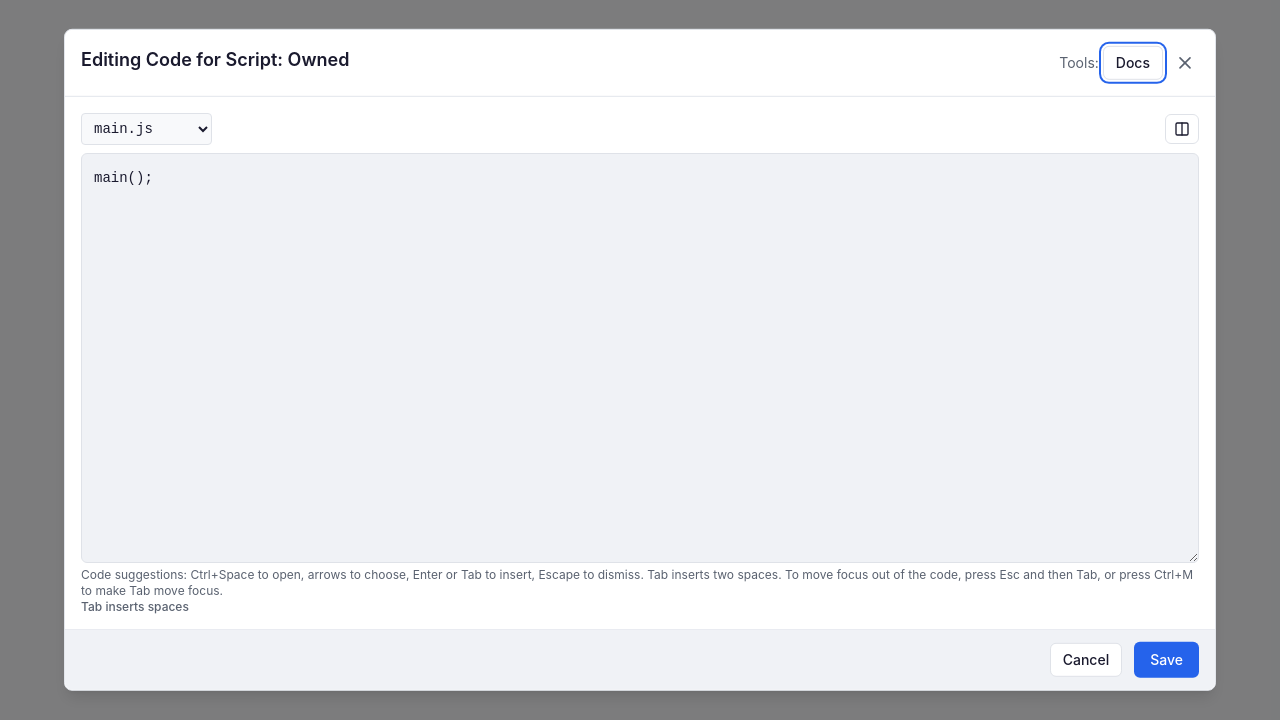
Test: ScriptEditorDialog › splits the editor into panes and closes a split
The width and height of the screenshot is (1280, 720).
Click the button named "Open a new editor split".
click(1182, 129)  # box [1165,114,1199,144]
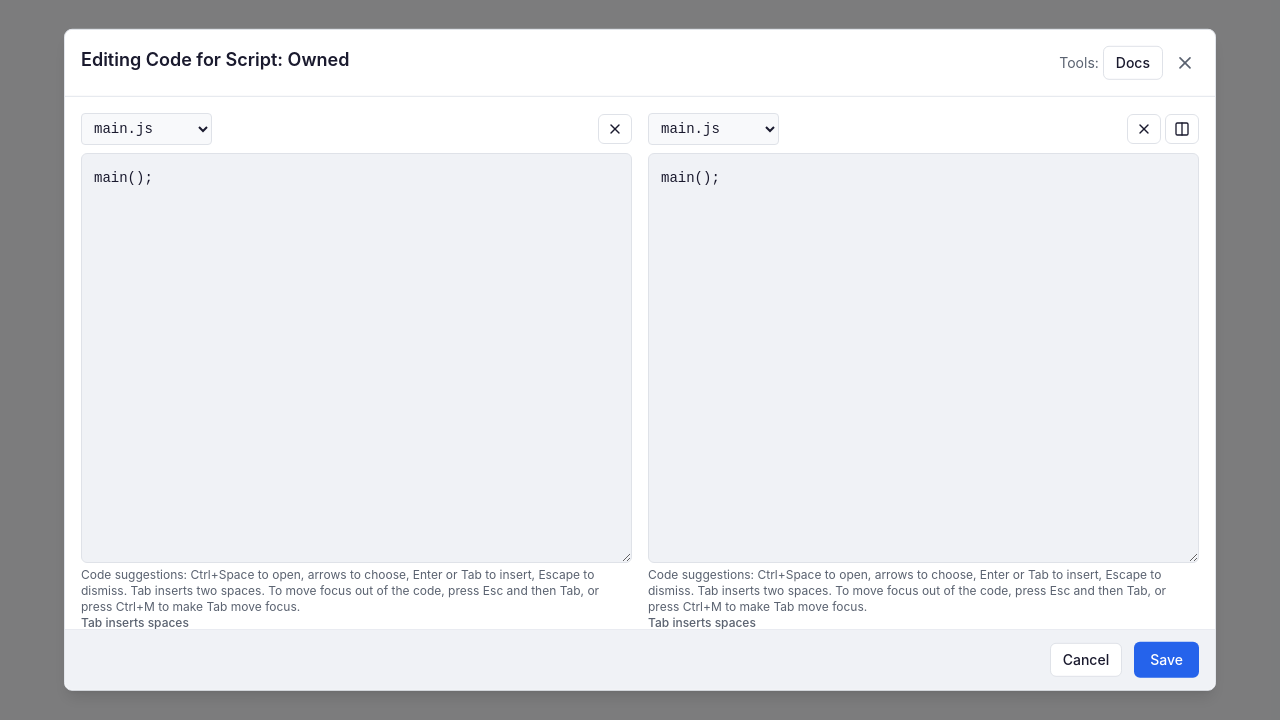
Select "data.json" in the 2nd dropdown named "File in editor 2" at (714, 129), box [648,113,779,145]
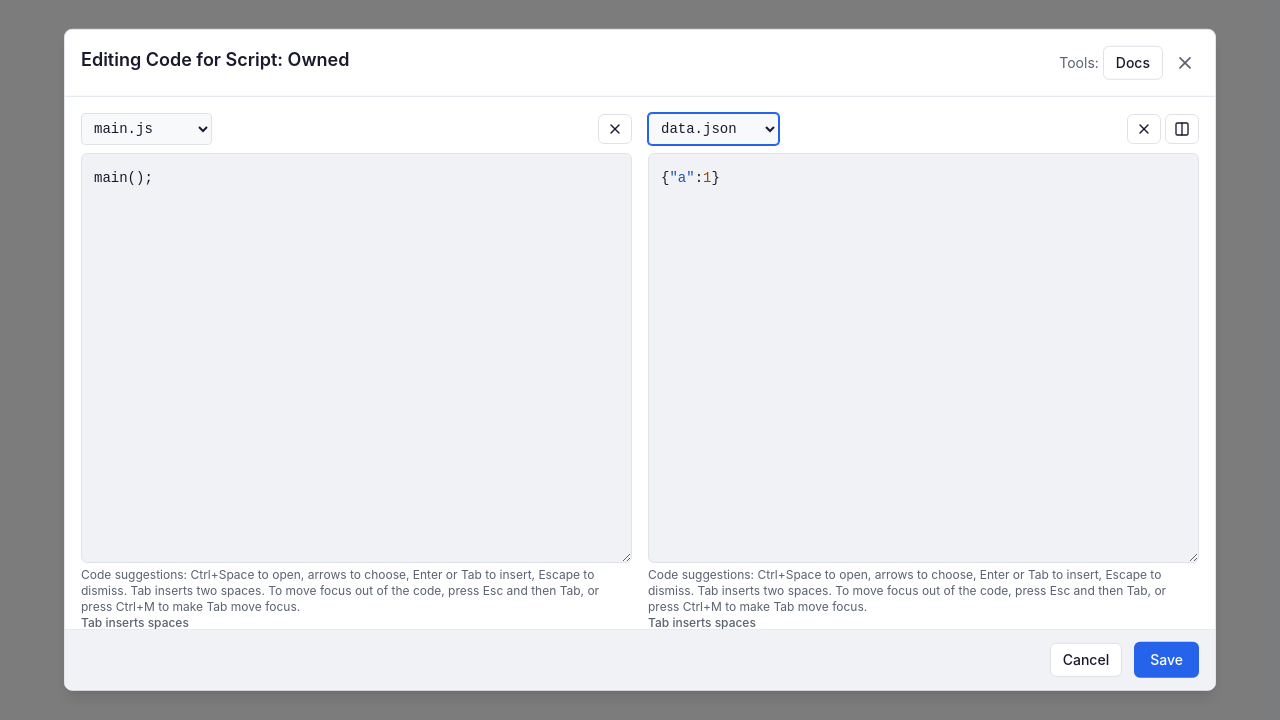
Check: the text box named "main.js" is shown, box [82,154,631,562]
Check: the text box named "data.json" holds "{\"a\":1}", box [649,154,1198,562]
Click the button named "Close editor split 1".
click(615, 129)  # box [598,114,632,144]
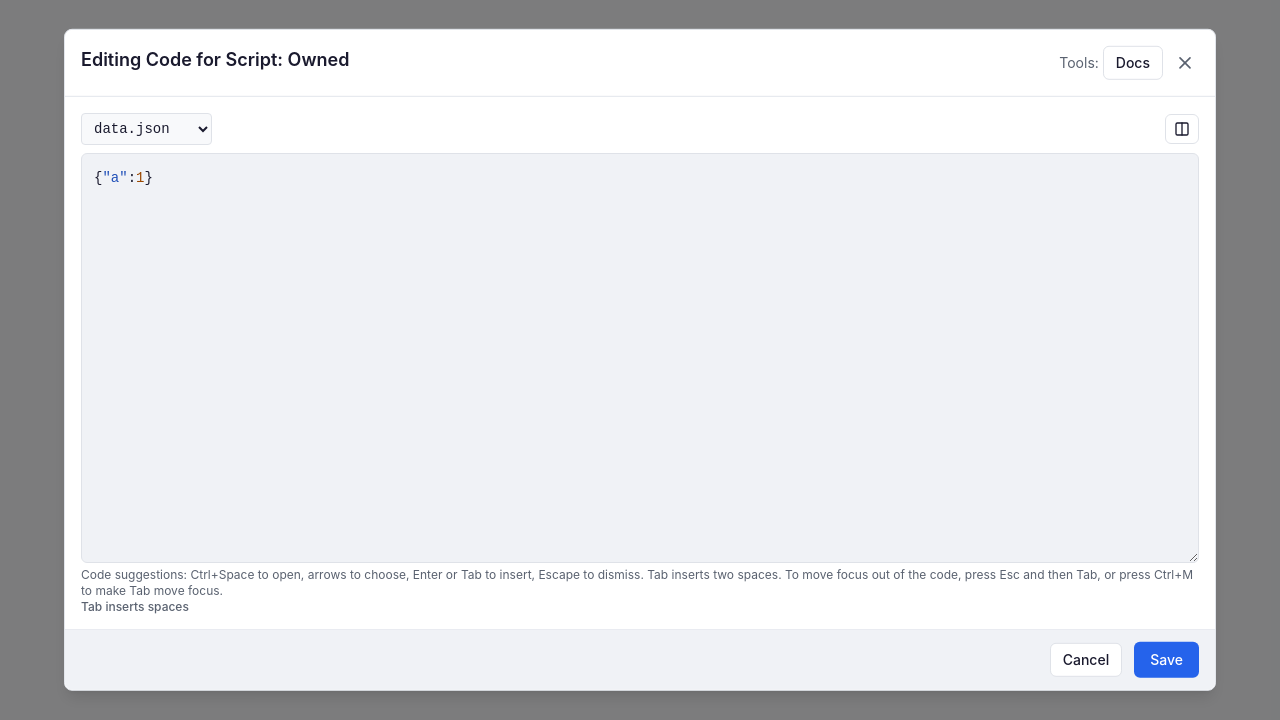
Check: the field labelled "main.js" is not shown
Check: the text box named "data.json" is shown, box [82,154,1198,562]
